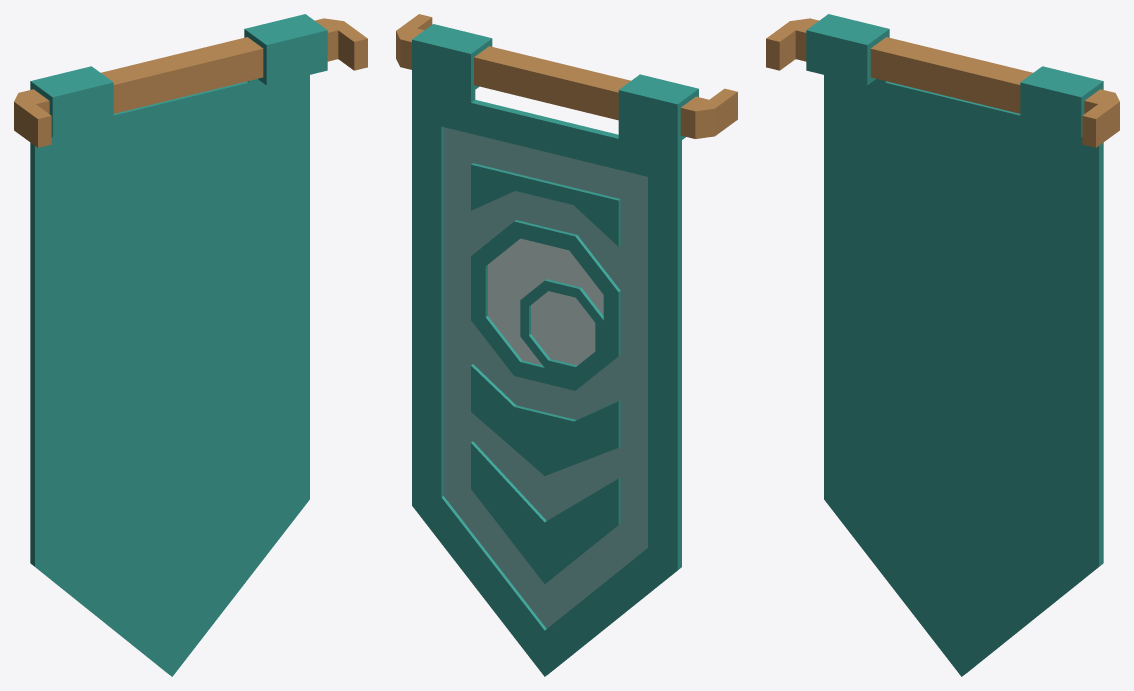
File: Prop_Flag_Eclipse.fbx
The picture shows the model from 3 angles, left to right: view 1: azimuth 30°, elevation 25°; view 2: azimuth 150°, elevation 25°; view 3: azimuth 330°, elevation 25°; orthographic projection. The views are drawn at different scales.
Visible parts, largest first — view 1: object2, object1; view 2: object2, object1; view 3: object2, object1.
Boxes of the visible parts, bbox=[...] form: object2: bbox=[30, 14, 327, 676]; object1: bbox=[14, 18, 367, 147]; object2: bbox=[412, 24, 698, 676]; object1: bbox=[396, 14, 737, 138]; object2: bbox=[806, 14, 1103, 676]; object1: bbox=[766, 18, 1119, 147].
Size of the model in its own units: 0.54 by 0.979 by 0.099.
